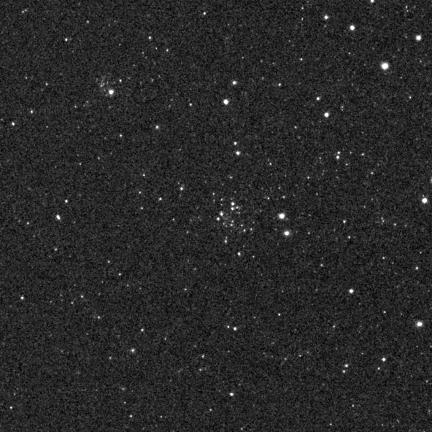blob: (381, 63, 389, 71), (416, 321, 423, 327), (350, 25, 356, 31), (224, 99, 229, 105), (279, 214, 285, 219), (422, 198, 427, 204), (416, 35, 421, 40), (324, 113, 329, 117)
